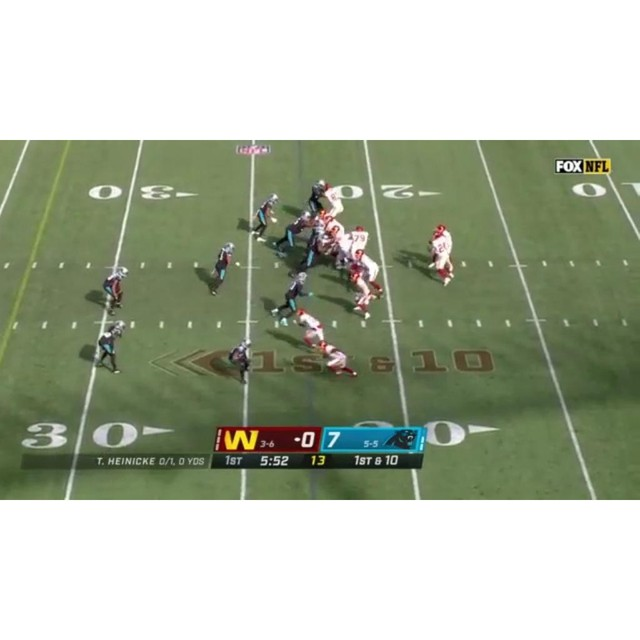american-football-player: (270, 271, 309, 320), (93, 321, 126, 374), (272, 211, 311, 254), (205, 243, 236, 297), (249, 193, 279, 243), (318, 342, 357, 378), (101, 266, 129, 314), (429, 237, 455, 288), (227, 337, 253, 384), (296, 310, 326, 350), (306, 180, 328, 217), (348, 225, 370, 261), (322, 182, 344, 218)
